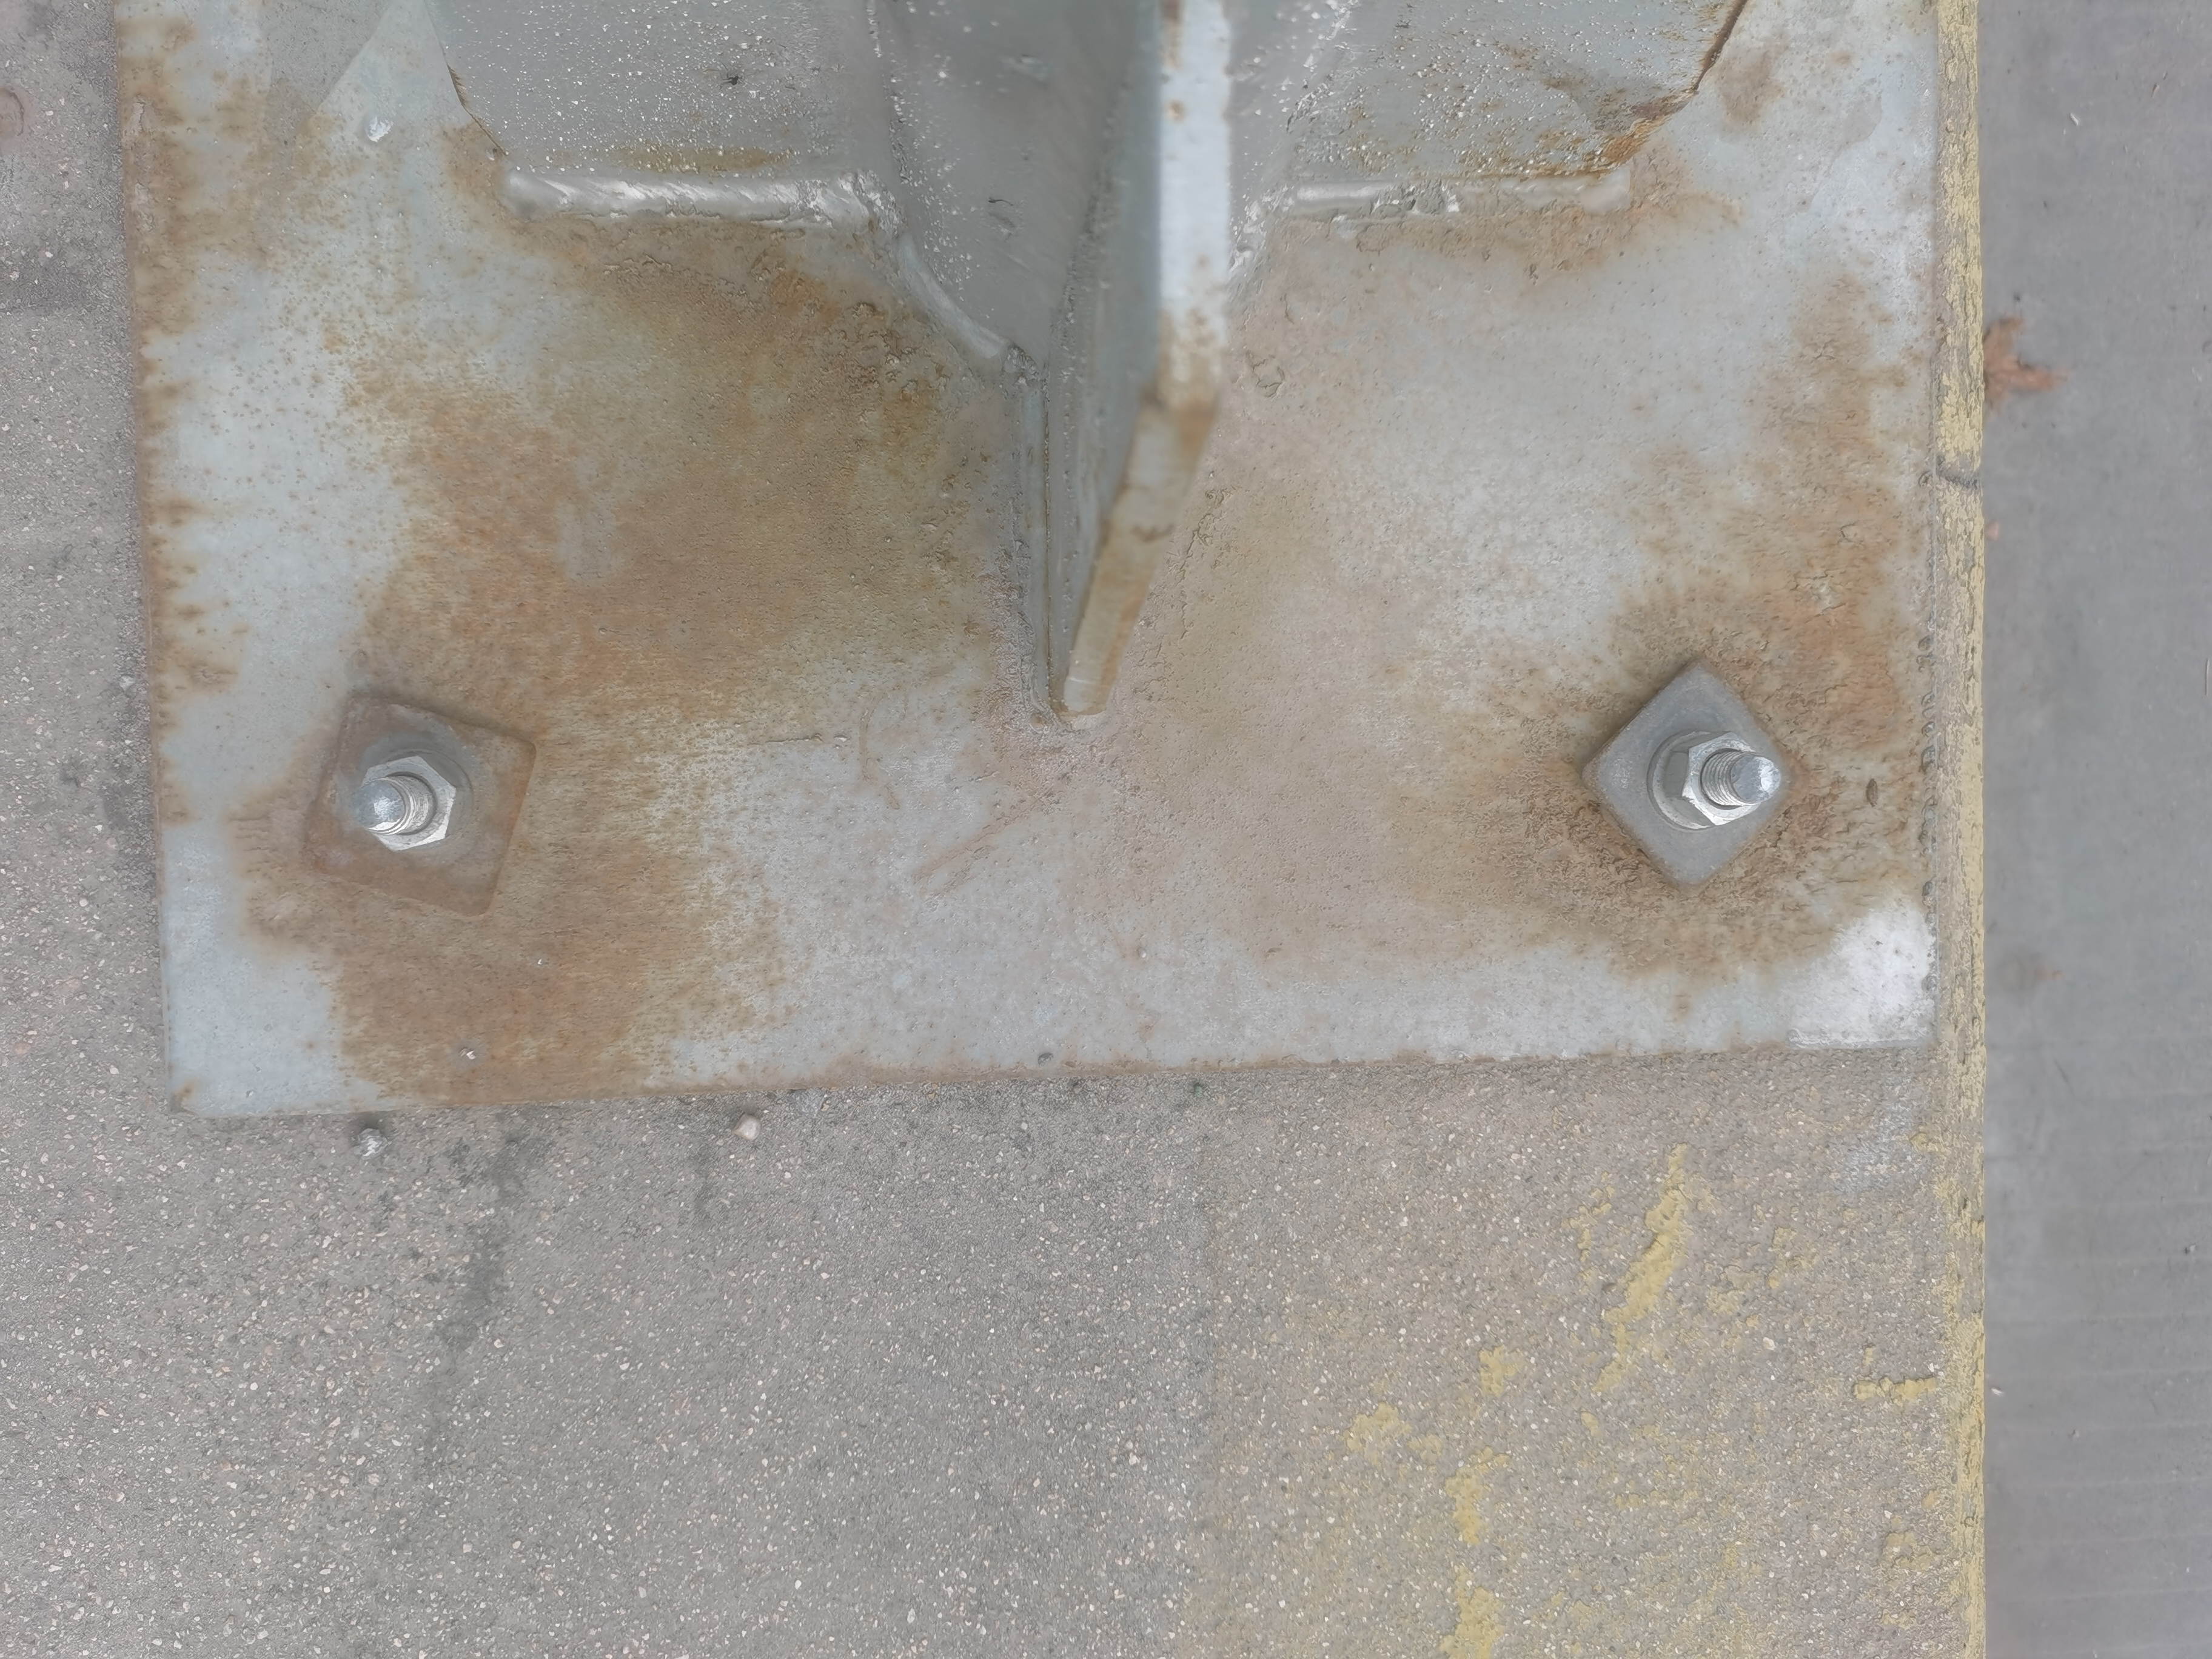bolt_b: (354, 748, 465, 856), (1660, 728, 1775, 829)
